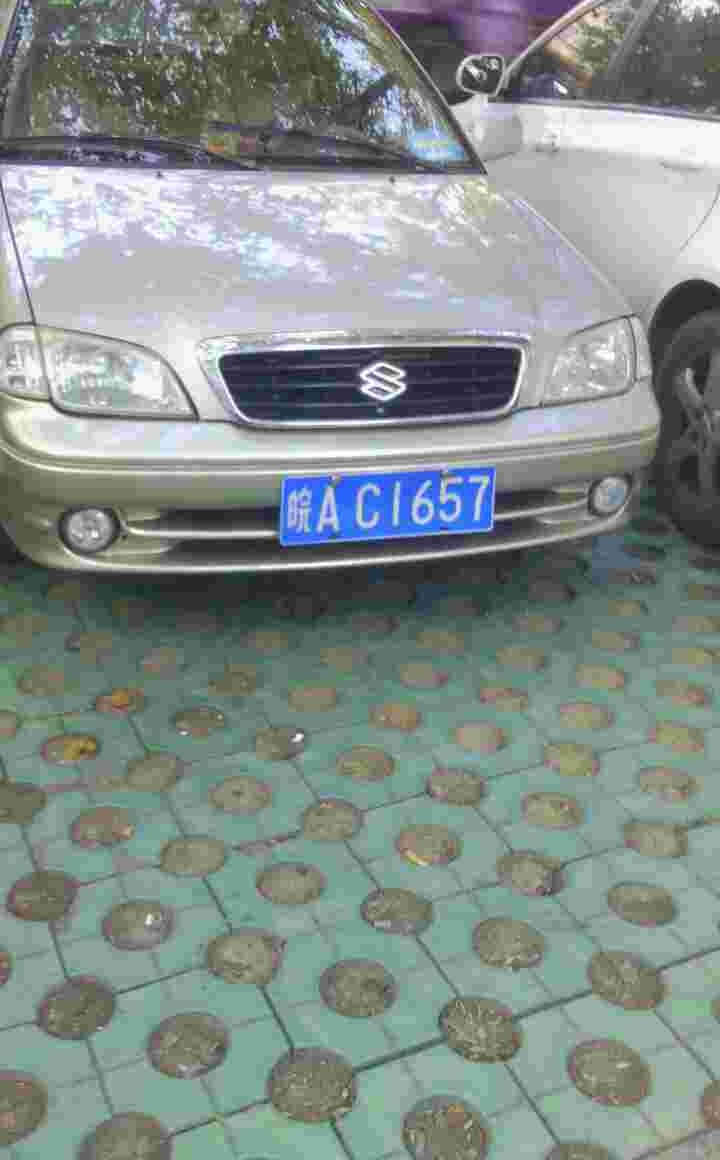license_plate: (282, 466, 490, 551)
